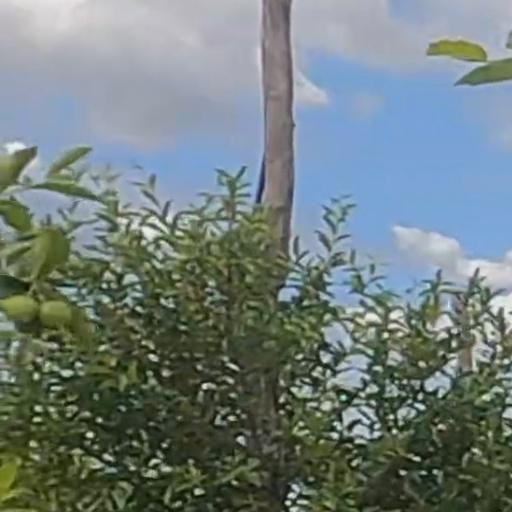acerola: (40, 302, 70, 327)
